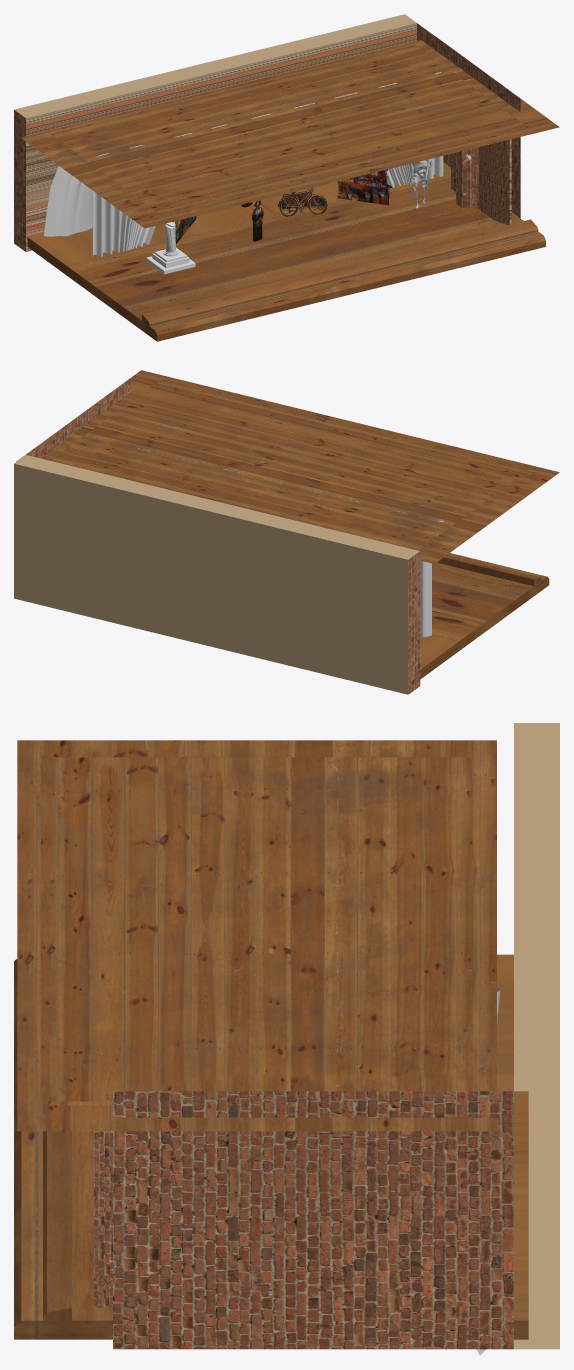
File: Escenario.fbx
3 views of the same model, one above another, from view 1: azimuth 30°, elevation 25°; view 2: azimuth 150°, elevation 25°; view 3: azimuth 270°, elevation 25° (orthographic). The views are drawn at different scales.
Visible parts, largest first — view 1: Estructura techo, Piso, Muro fondo, Muro, Telon fondo, Telon izquierdo, Mercado, columna, Byke, Telon derecho, Alexa expo_cell.246; view 2: Muro fondo, Estructura techo, Piso, Telon izquierdo; view 3: Estructura techo, Muro fondo, Piso, Muro.
Boxes of the visible parts, box(x1,y1,x2,y2) form: Estructura techo: box(21, 36, 559, 228); Piso: box(27, 162, 545, 341); Muro fondo: box(14, 14, 520, 251); Muro: box(451, 139, 511, 224); Telon fondo: box(44, 166, 92, 236); Telon izquierdo: box(92, 191, 155, 257); Mercado: box(337, 169, 392, 205); columna: box(146, 222, 195, 274); Byke: box(278, 187, 327, 216); Telon derecho: box(386, 156, 443, 187); Alexa expo_cell.246: box(410, 159, 432, 208); Muro fondo: box(14, 378, 420, 694); Estructura techo: box(16, 370, 559, 563); Piso: box(420, 553, 549, 679); Telon izquierdo: box(420, 560, 431, 637); Estructura techo: box(17, 740, 496, 1131); Muro fondo: box(113, 723, 559, 1349); Piso: box(14, 954, 528, 1339); Muro: box(94, 1131, 112, 1307).
Size of the model in its own units: 3011 by 1048 by 1777.
15 materials, 9 textured.
